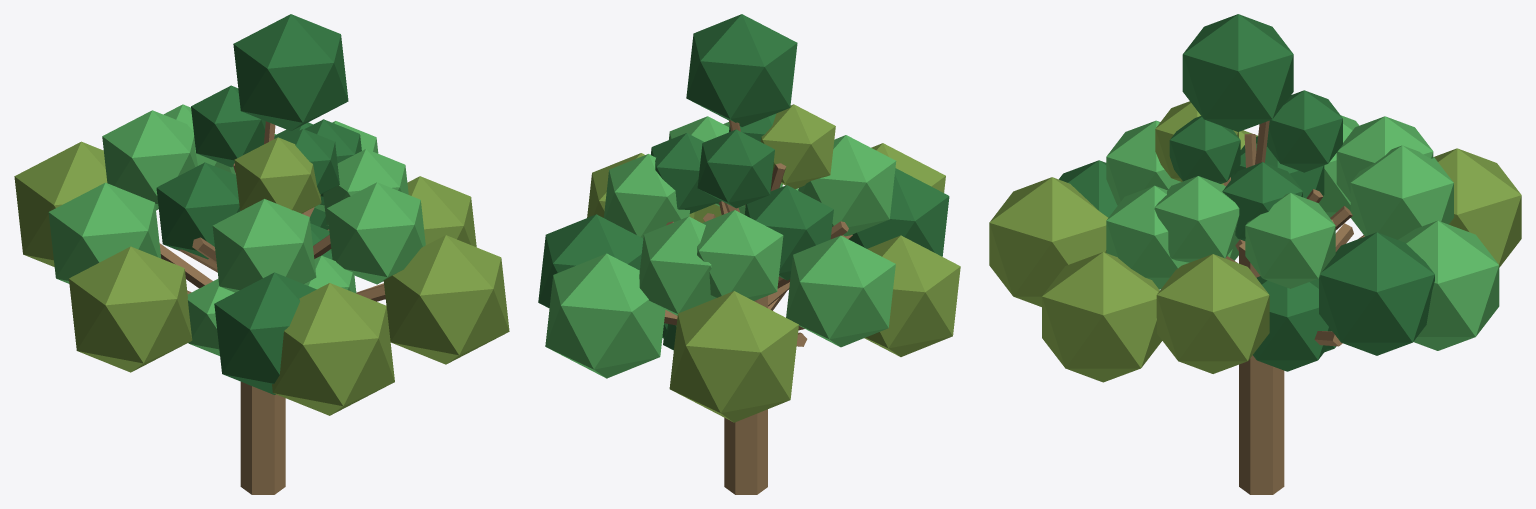
File: Tree_11.glb
3 views of the same model, side by side, from view 1: azimuth 30°, elevation 25°; view 2: azimuth 150°, elevation 25°; view 3: azimuth 270°, elevation 25° (orthographic). The views are drawn at different scales.
Parts seen in each view (by area): view 1: T11_Sphere_05, T11_Sphere_09, T11_Sphere_08, T11_Sphere_03, T11_Sphere_14, T11_Sphere_12, T11_Sphere_13, T11_Sphere_18, T11_Sphere_20, T11_Sphere_07, T11_Sphere_17, T11_Trunk (+10 smaller); view 2: T11_Sphere_07, T11_Sphere_11, T11_Sphere_03, T11_Sphere_12, T11_Sphere_08, T11_Sphere_20, T11_Sphere_18, T11_Sphere_16, T11_Sphere_22, T11_Sphere_15, T11_Sphere_06, T11_Sphere_13 (+8 smaller); view 3: T11_Sphere_05, T11_Sphere_06, T11_Sphere_10, T11_Sphere_03, T11_Sphere_09, T11_Sphere_11, T11_Sphere_16, T11_Sphere_15, T11_Trunk, T11_Sphere_07, T11_Sphere_19, T11_Sphere_02 (+10 smaller).
Boxes of the visible parts, x1,y1,x2,y2 form: T11_Sphere_05: (383,235,509,364); T11_Sphere_09: (272,283,394,415); T11_Sphere_08: (69,246,192,372); T11_Sphere_03: (233,14,348,130); T11_Sphere_14: (327,182,425,284); T11_Sphere_12: (48,182,161,283); T11_Sphere_13: (214,272,316,394); T11_Sphere_18: (212,199,316,292); T11_Sphere_20: (102,110,197,210); T11_Sphere_07: (14,141,107,266); T11_Sphere_17: (156,162,240,259); T11_Trunk: (240,382,285,494); T11_Sphere_07: (669,291,798,422); T11_Sphere_11: (545,253,665,378); T11_Sphere_03: (686,14,797,126); T11_Sphere_12: (786,235,895,347); T11_Sphere_08: (864,235,960,356); T11_Sphere_20: (697,210,783,300); T11_Sphere_18: (798,135,896,236); T11_Sphere_16: (639,216,715,315); T11_Sphere_22: (697,129,774,208); T11_Sphere_15: (603,154,689,238); T11_Sphere_06: (538,214,643,308); T11_Sphere_13: (849,168,949,256); T11_Sphere_05: (1042,252,1162,382); T11_Sphere_06: (1319,232,1434,355); T11_Sphere_10: (1156,254,1269,373); T11_Sphere_03: (1182,14,1293,131); T11_Sphere_09: (989,177,1108,306); T11_Sphere_11: (1398,220,1499,350); T11_Sphere_16: (1350,145,1453,239); T11_Sphere_15: (1245,193,1335,288); T11_Trunk: (1239,243,1284,494); T11_Sphere_07: (1434,148,1521,267); T11_Sphere_19: (1154,176,1239,262); T11_Sphere_02: (1253,276,1332,371).
Size of the model in its own units: 2.36 by 2.8 by 2.81.
